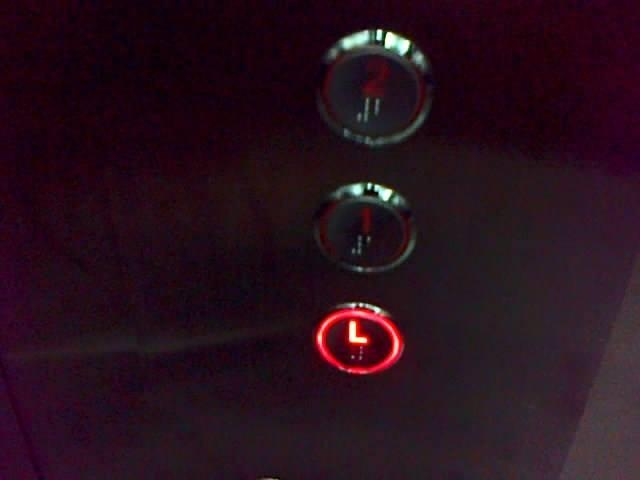1: (309, 181, 420, 276)
2: (314, 28, 438, 148)
L: (311, 299, 407, 379)
